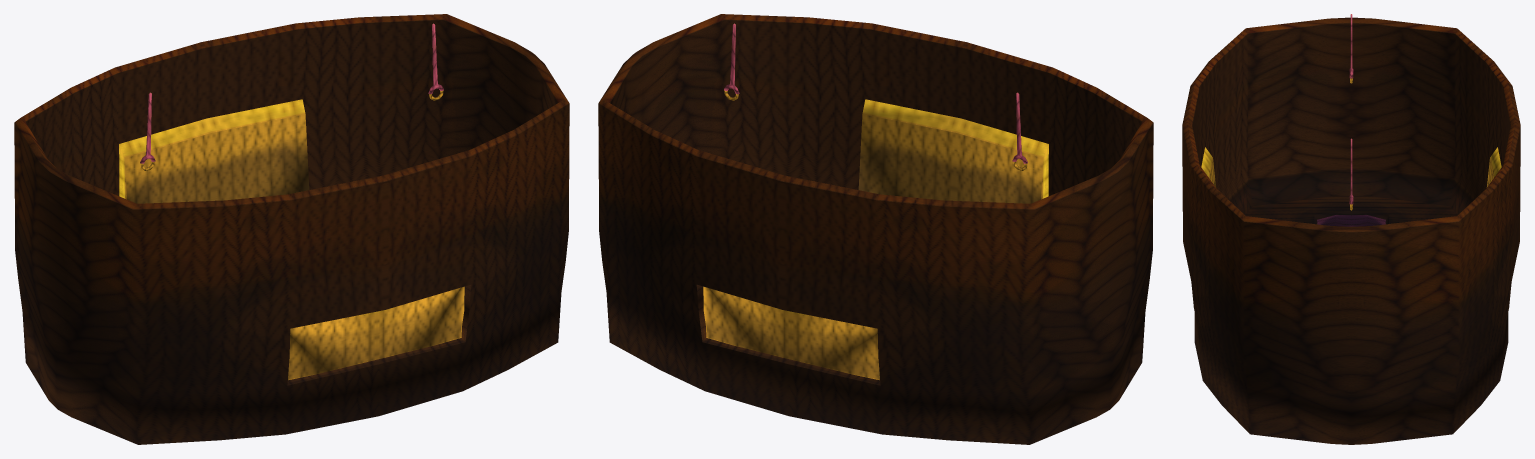
Rendered from Bossroom.fbx.
3 renders of one model, left to right at view 1: azimuth 30°, elevation 25°; view 2: azimuth 150°, elevation 25°; view 3: azimuth 270°, elevation 25°, orthographic. The views are drawn at different scales.
Parts seen in each view (by area): view 1: BossRing; view 2: BossRing; view 3: BossRing.
Boxes of the visible parts, bbox=[...] form: BossRing: bbox=[14, 14, 569, 444]; BossRing: bbox=[598, 14, 1153, 444]; BossRing: bbox=[1182, 14, 1520, 444].
Bounding box in the file's own units: 3286 × 2036 × 2205.
1 material, 1 textured.
